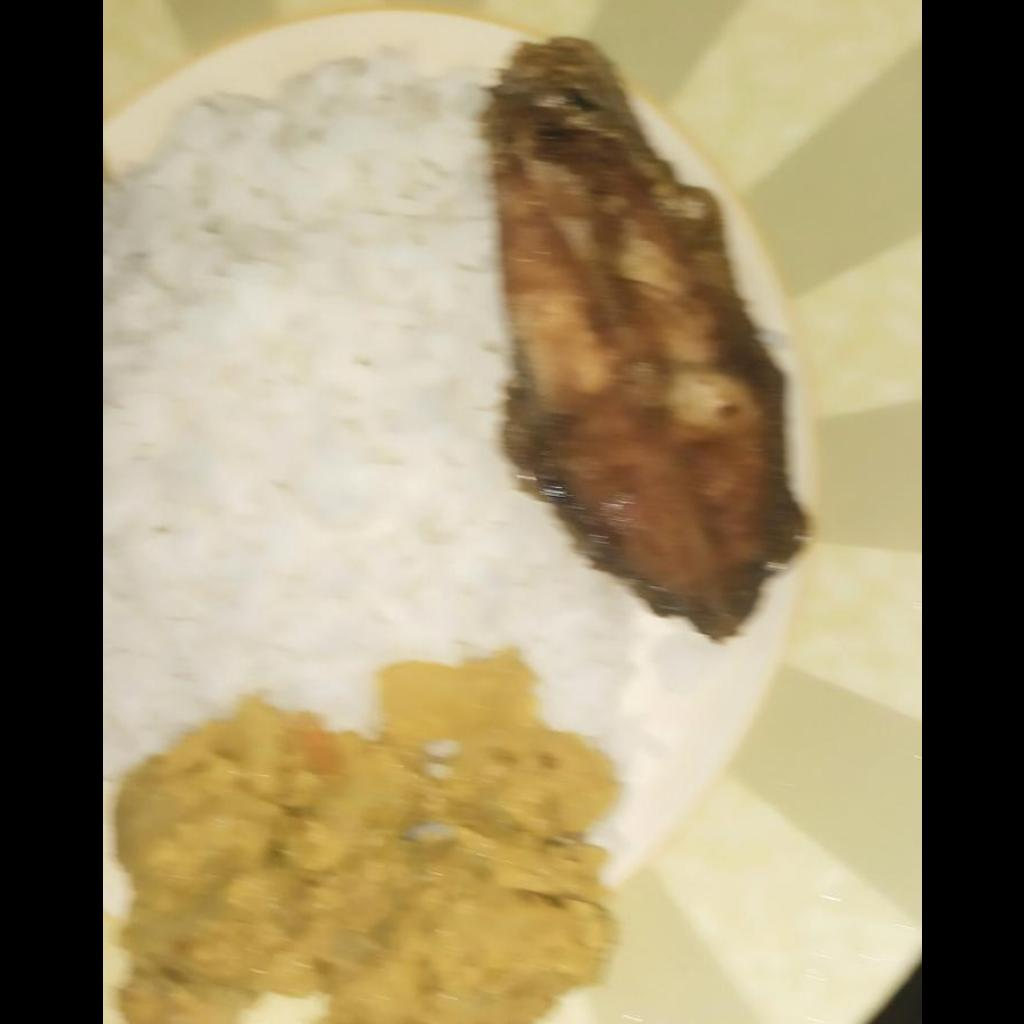chicken: (491, 34, 814, 645)
daal: (112, 644, 625, 1020)
rice: (105, 38, 625, 779)
